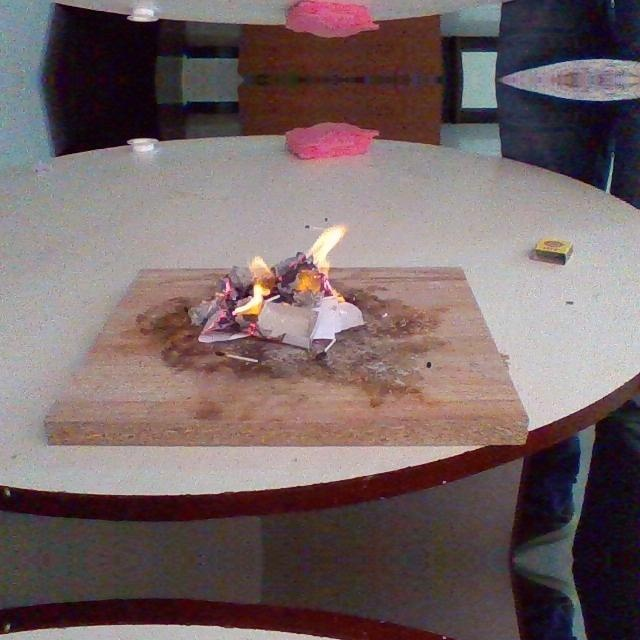fire: (225, 211, 374, 366)
